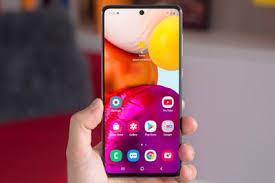Hand: (71, 95, 199, 183)
Smartphone: (101, 8, 180, 177)
